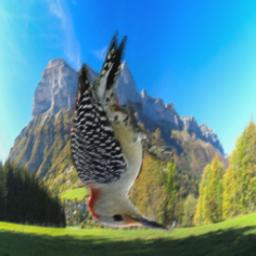Woodpecker: (71, 28, 177, 234)
